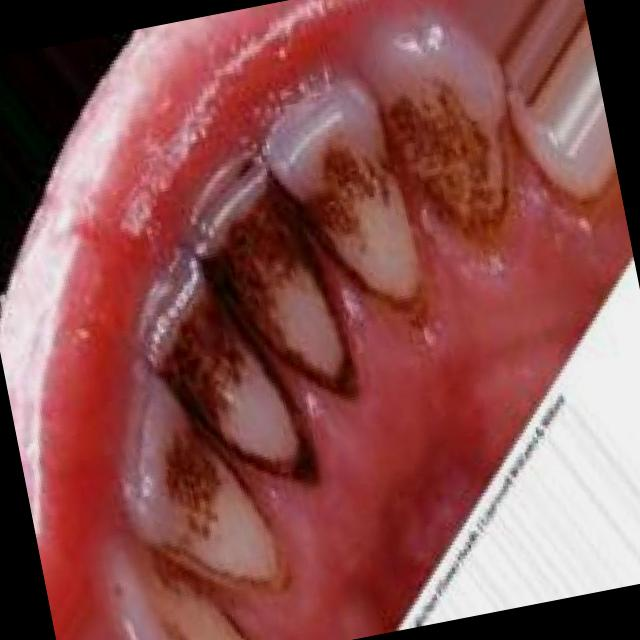calculus: (122, 238, 323, 519), (189, 136, 380, 424), (256, 64, 429, 338), (80, 381, 280, 618), (349, 0, 504, 235)
